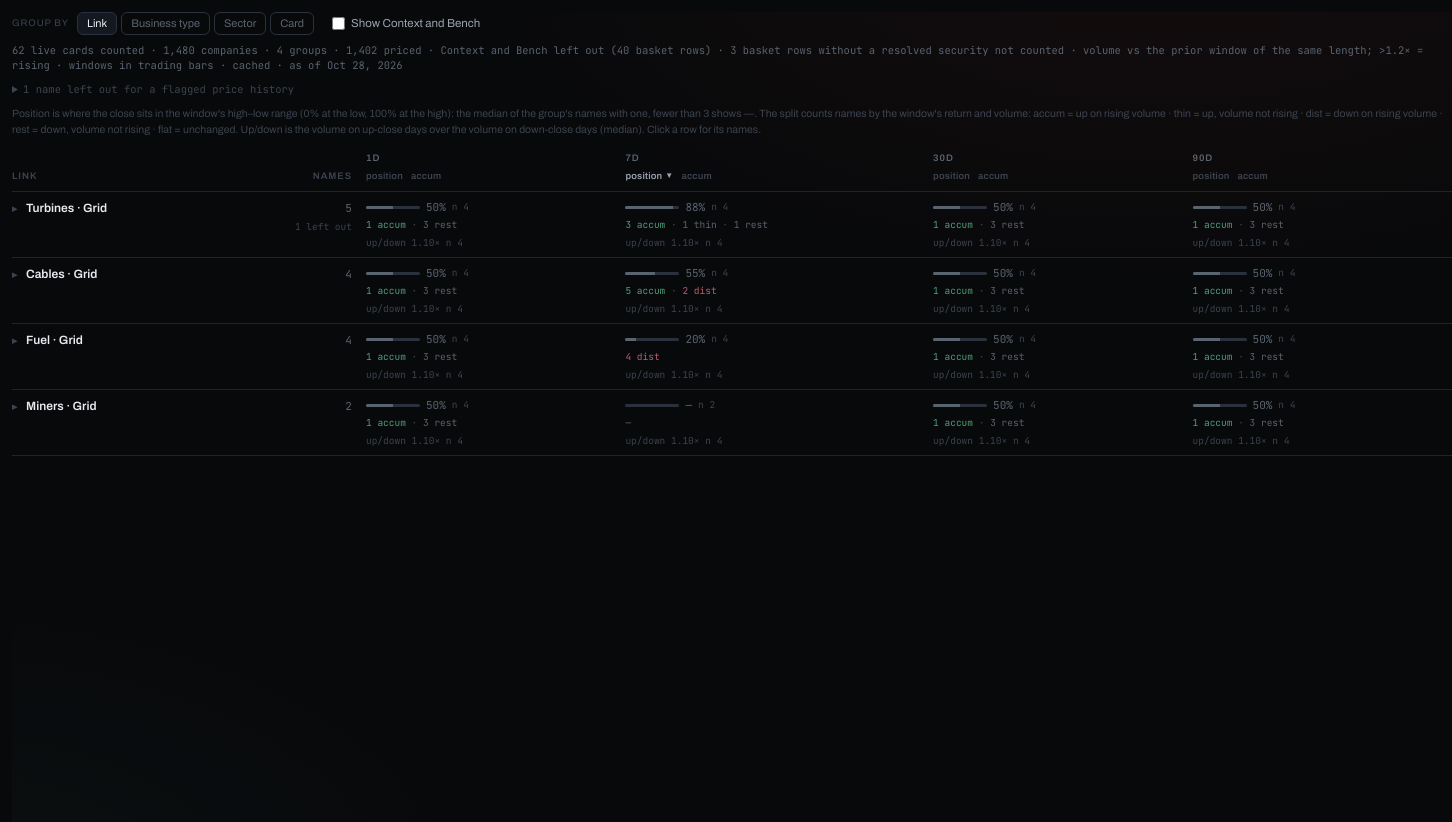
Test: Price & Volume Landing — a flagged price history › a group counts its left-out names, and expanded it lists the flagged name grayed with its reason
Expected: the text "1 left out" is shown, top-left (295, 220), bottom-right (352, 233)
Click the row that starts with "Turbines · Grid".
click(732, 224)  # box top-left (12, 191), bottom-right (1451, 257)
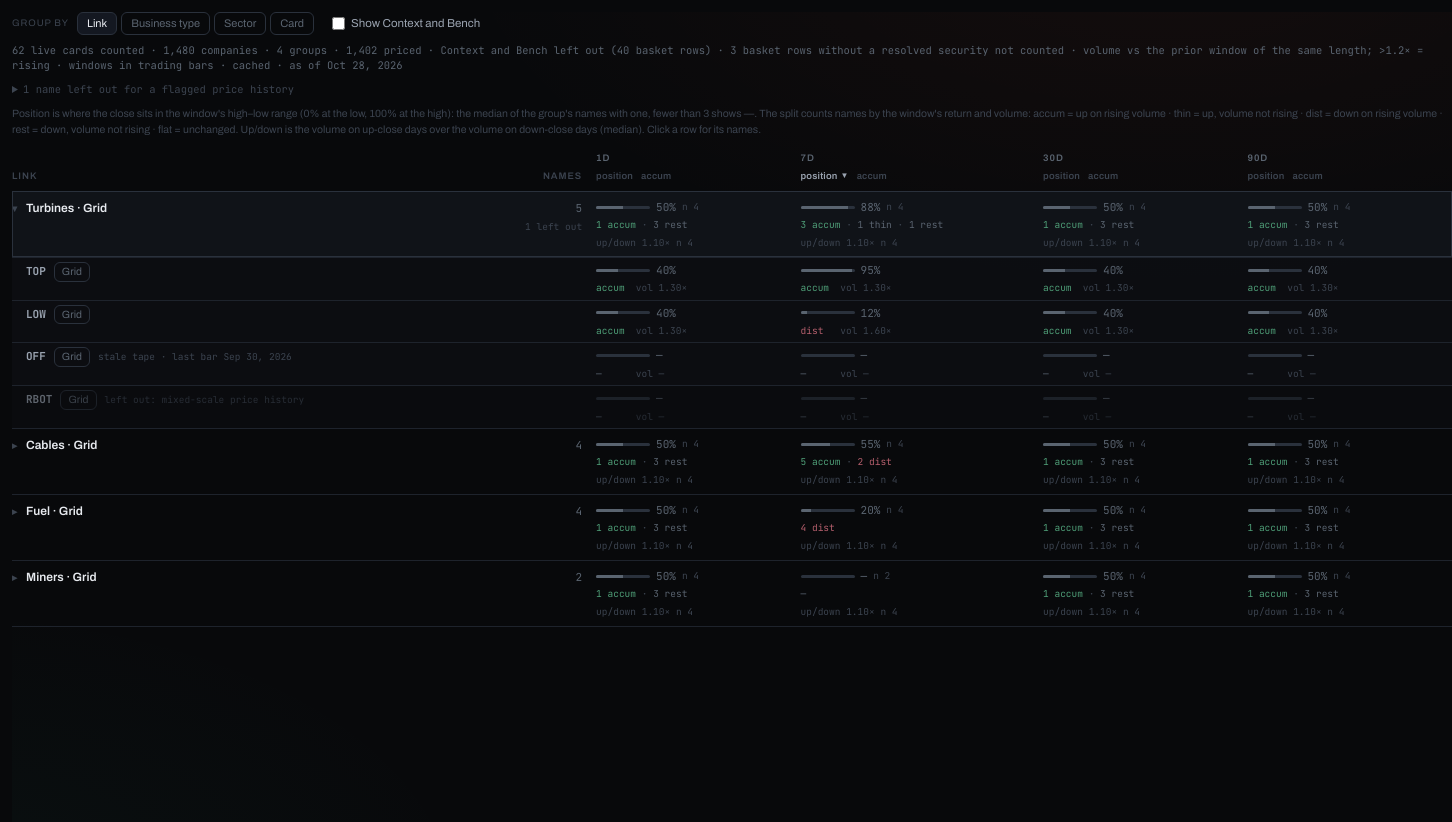
Result: the text "left out: mixed-scale price history" is shown at top-left (105, 393), bottom-right (304, 406)
